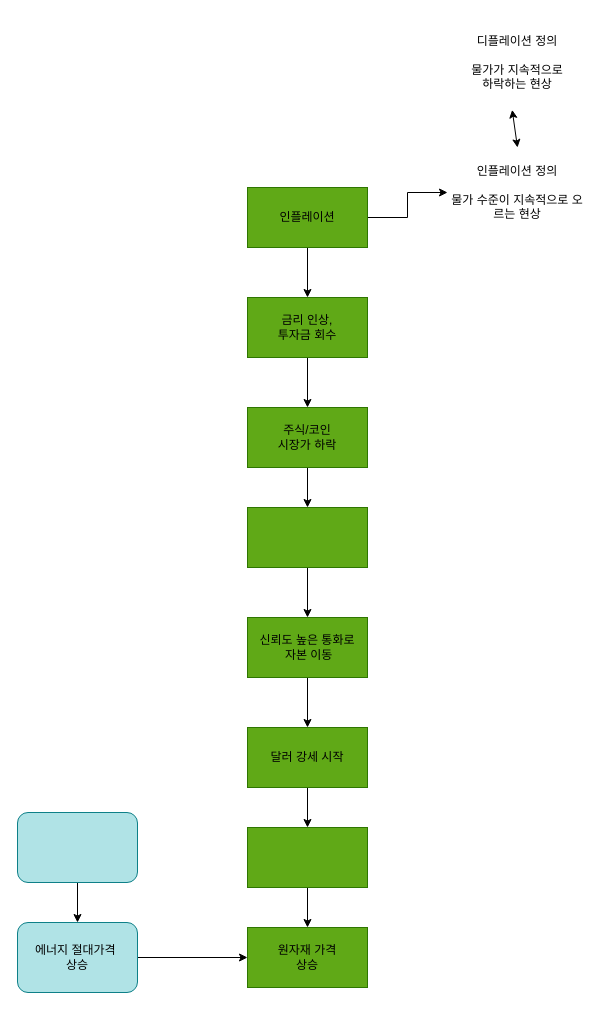
Image size: 605x1010. Some labels were removed from this diagram. The centre of each missing label's shape, as x and y in pixels:
"고환율 초래" belongs at point 307,857.
"러-우 전쟁 발발" belongs at point 77,847.
"투자열기 감소" belongs at point 307,537.
